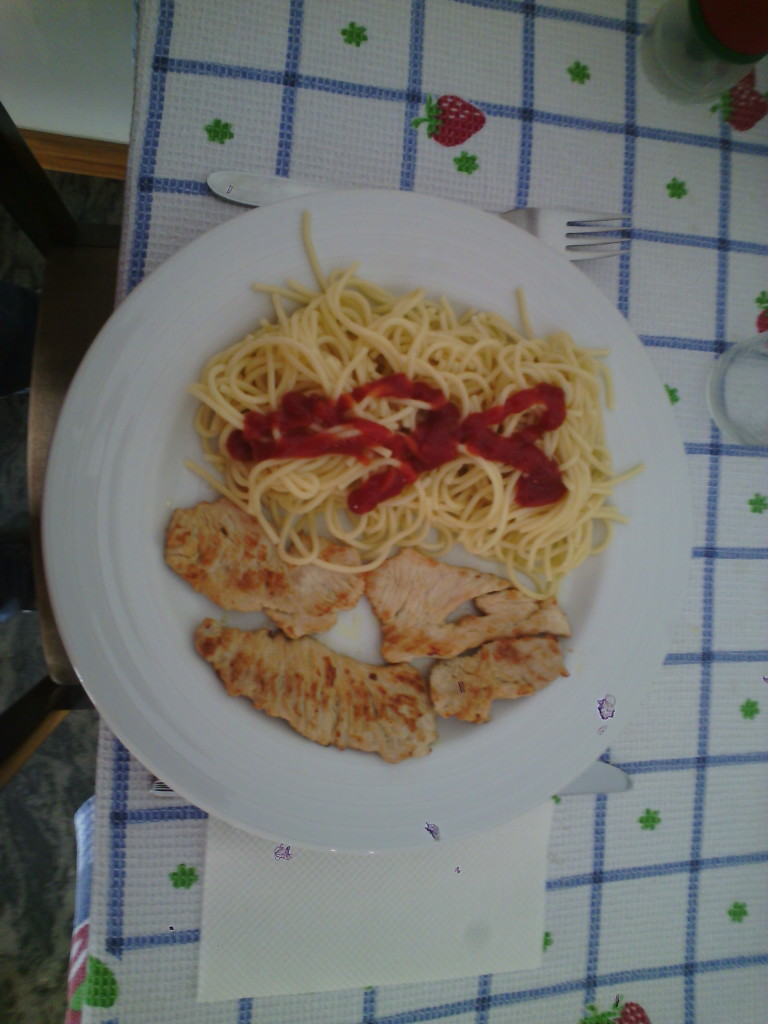81-100: (43, 187, 678, 847)
